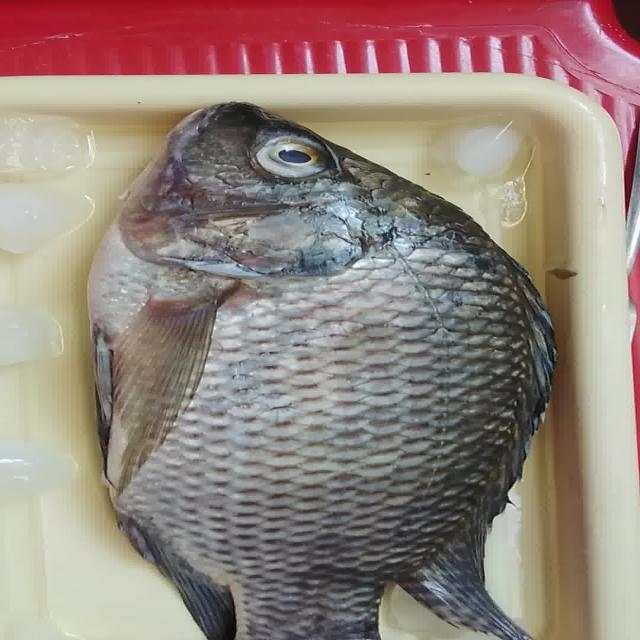Fresh: (93, 238, 542, 572), (243, 129, 348, 182)
